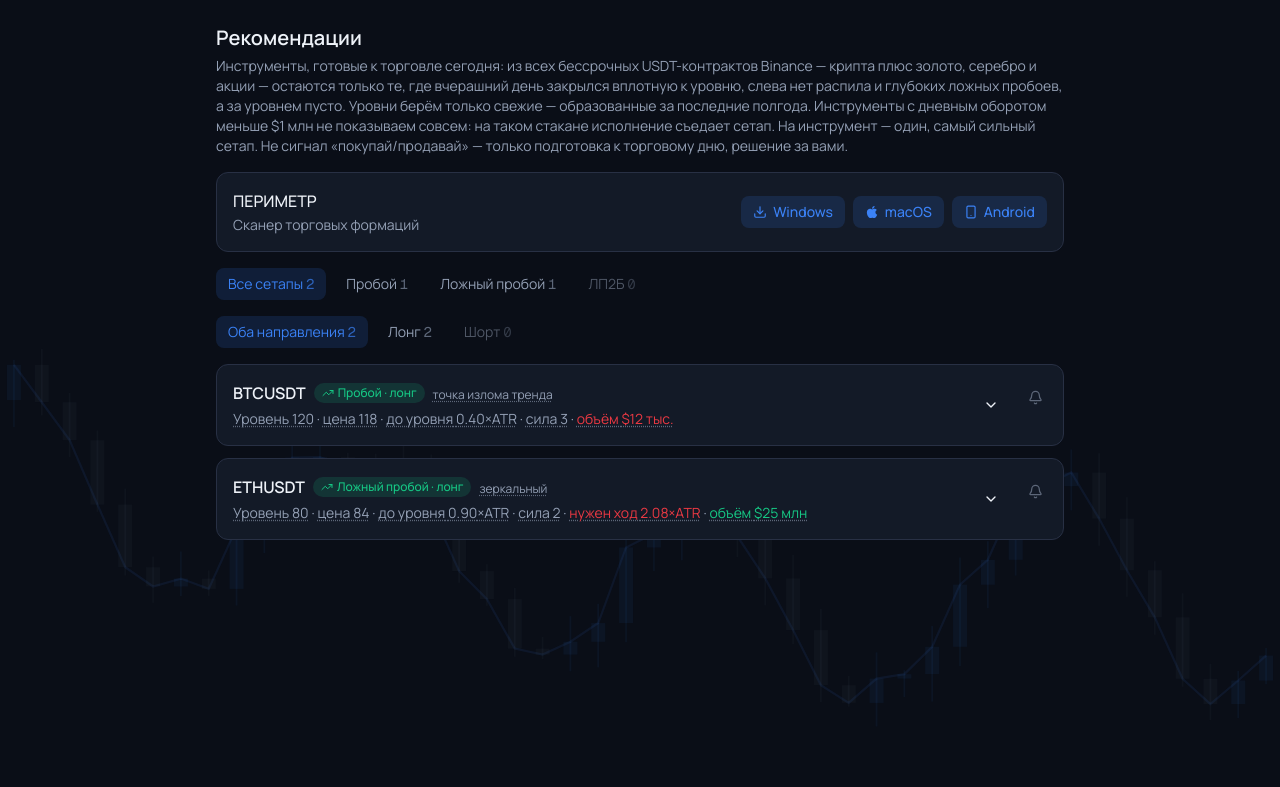
Test: ATR panel › shows the required move for a false breakout, in the list and in the card
Check: the text "нужен ход 2.08×ATR" is shown, box [569,503,701,522]
Click the text "ETHUSDT". click: (269, 487)
box: [233,475,305,499]
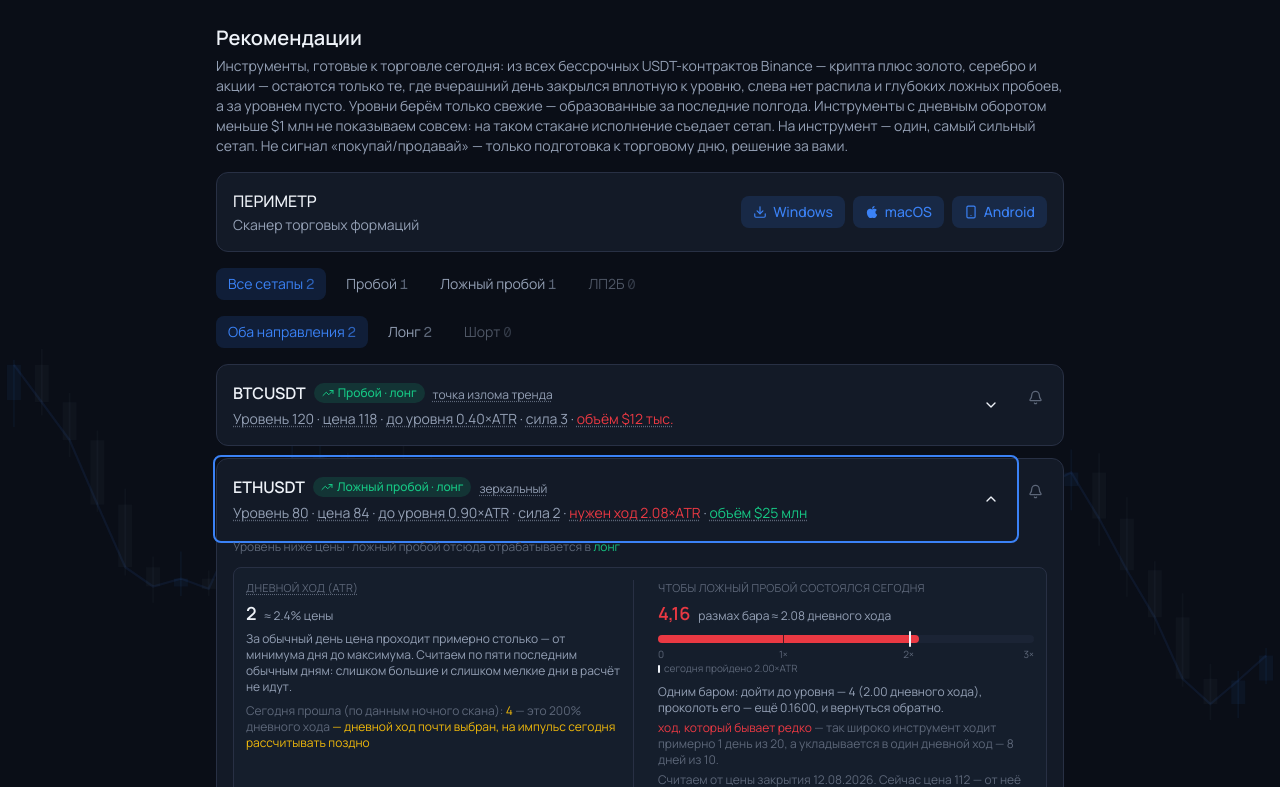
Check: the text "Чтобы ложный пробой состоялся сегодня" is shown, box [658,580,925,595]
Check: the text "4,16" is shown, box [658,598,690,626]
Check: the text "размах бара ≈ 2.08 дневного хода" is shown, box [698,608,891,624]
